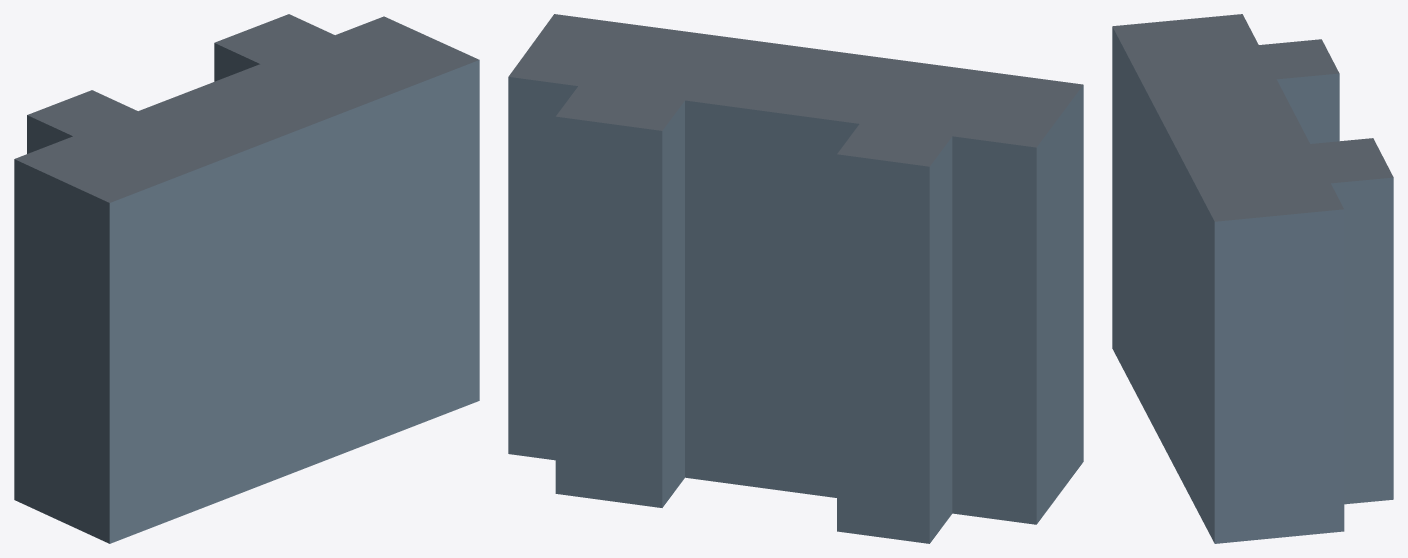
3 views of the same model, side by side, from view 1: azimuth 30°, elevation 25°; view 2: azimuth 150°, elevation 25°; view 3: azimuth 270°, elevation 25° (orthographic). The views are drawn at different scales.
Visible parts, largest first — view 1: HP-w442103696; view 2: HP-w442103696; view 3: HP-w442103696.
Boxes of the visible parts, x1,y1,x2,y2 form: HP-w442103696: (14,14,479,543); HP-w442103696: (508,14,1083,543); HP-w442103696: (1112,14,1393,543).
Bounding box in the file's own units: 68.34 × 49.4 × 39.12.
